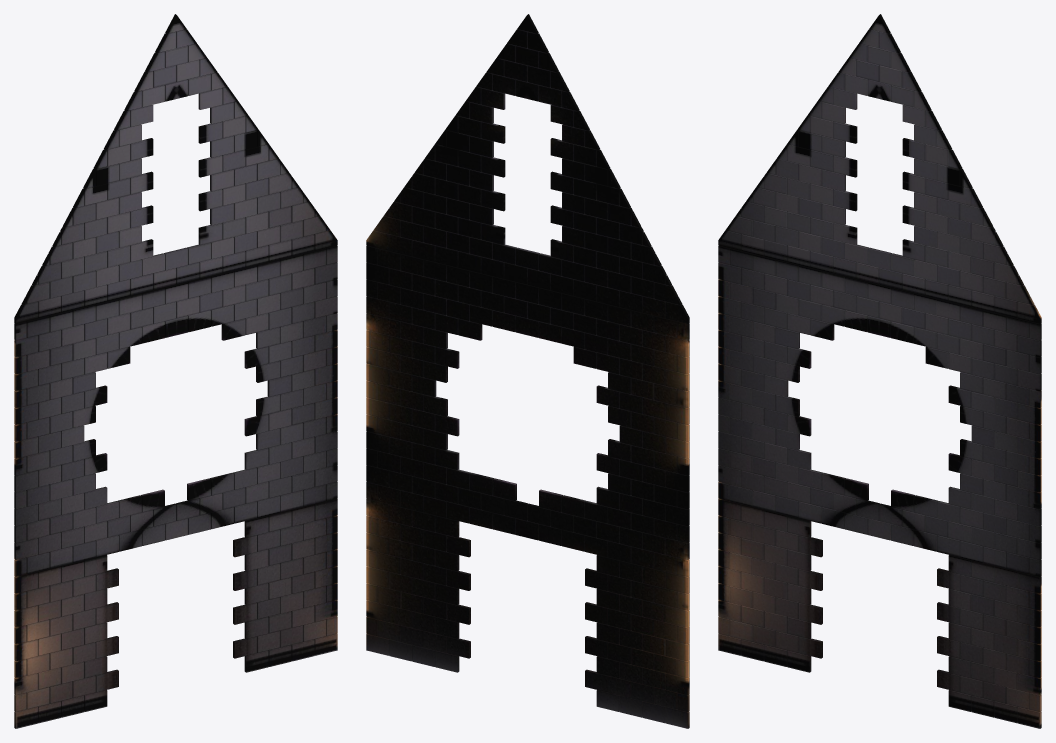
Rendered from entrance_masonry.glb.
The picture shows the model from 3 angles, left to right: view 1: azimuth 30°, elevation 25°; view 2: azimuth 150°, elevation 25°; view 3: azimuth 330°, elevation 25°; orthographic projection.
Parts seen in each view (by area): view 1: entrance_masonry.001; view 2: entrance_masonry.001; view 3: entrance_masonry.001.
Boxes of the visible parts, x1,y1,x2,y2 form: entrance_masonry.001: (14, 14, 337, 728); entrance_masonry.001: (366, 14, 689, 728); entrance_masonry.001: (718, 14, 1041, 728).
Bounding box in the file's own units: 13.98 × 27.98 × 0.12.
1 material, 1 textured.
